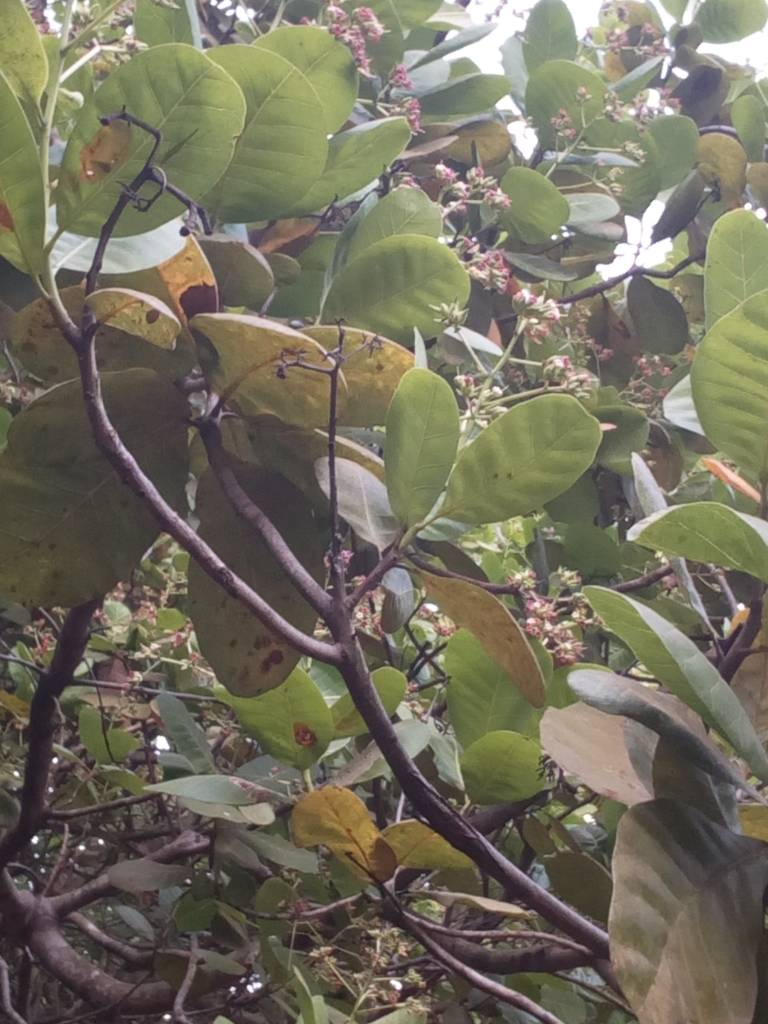Dessèchement des bourgeons: (115, 105, 225, 241), (272, 321, 388, 388)
